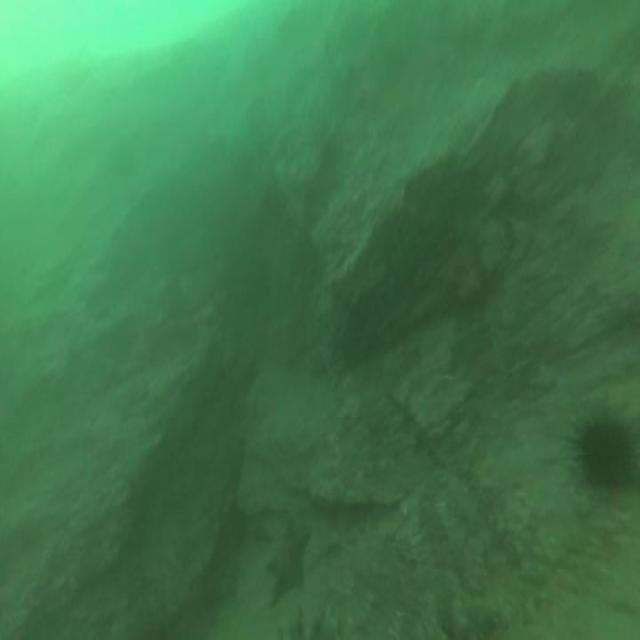echinus: (582, 414, 638, 493)
starfish: (265, 524, 308, 600)
